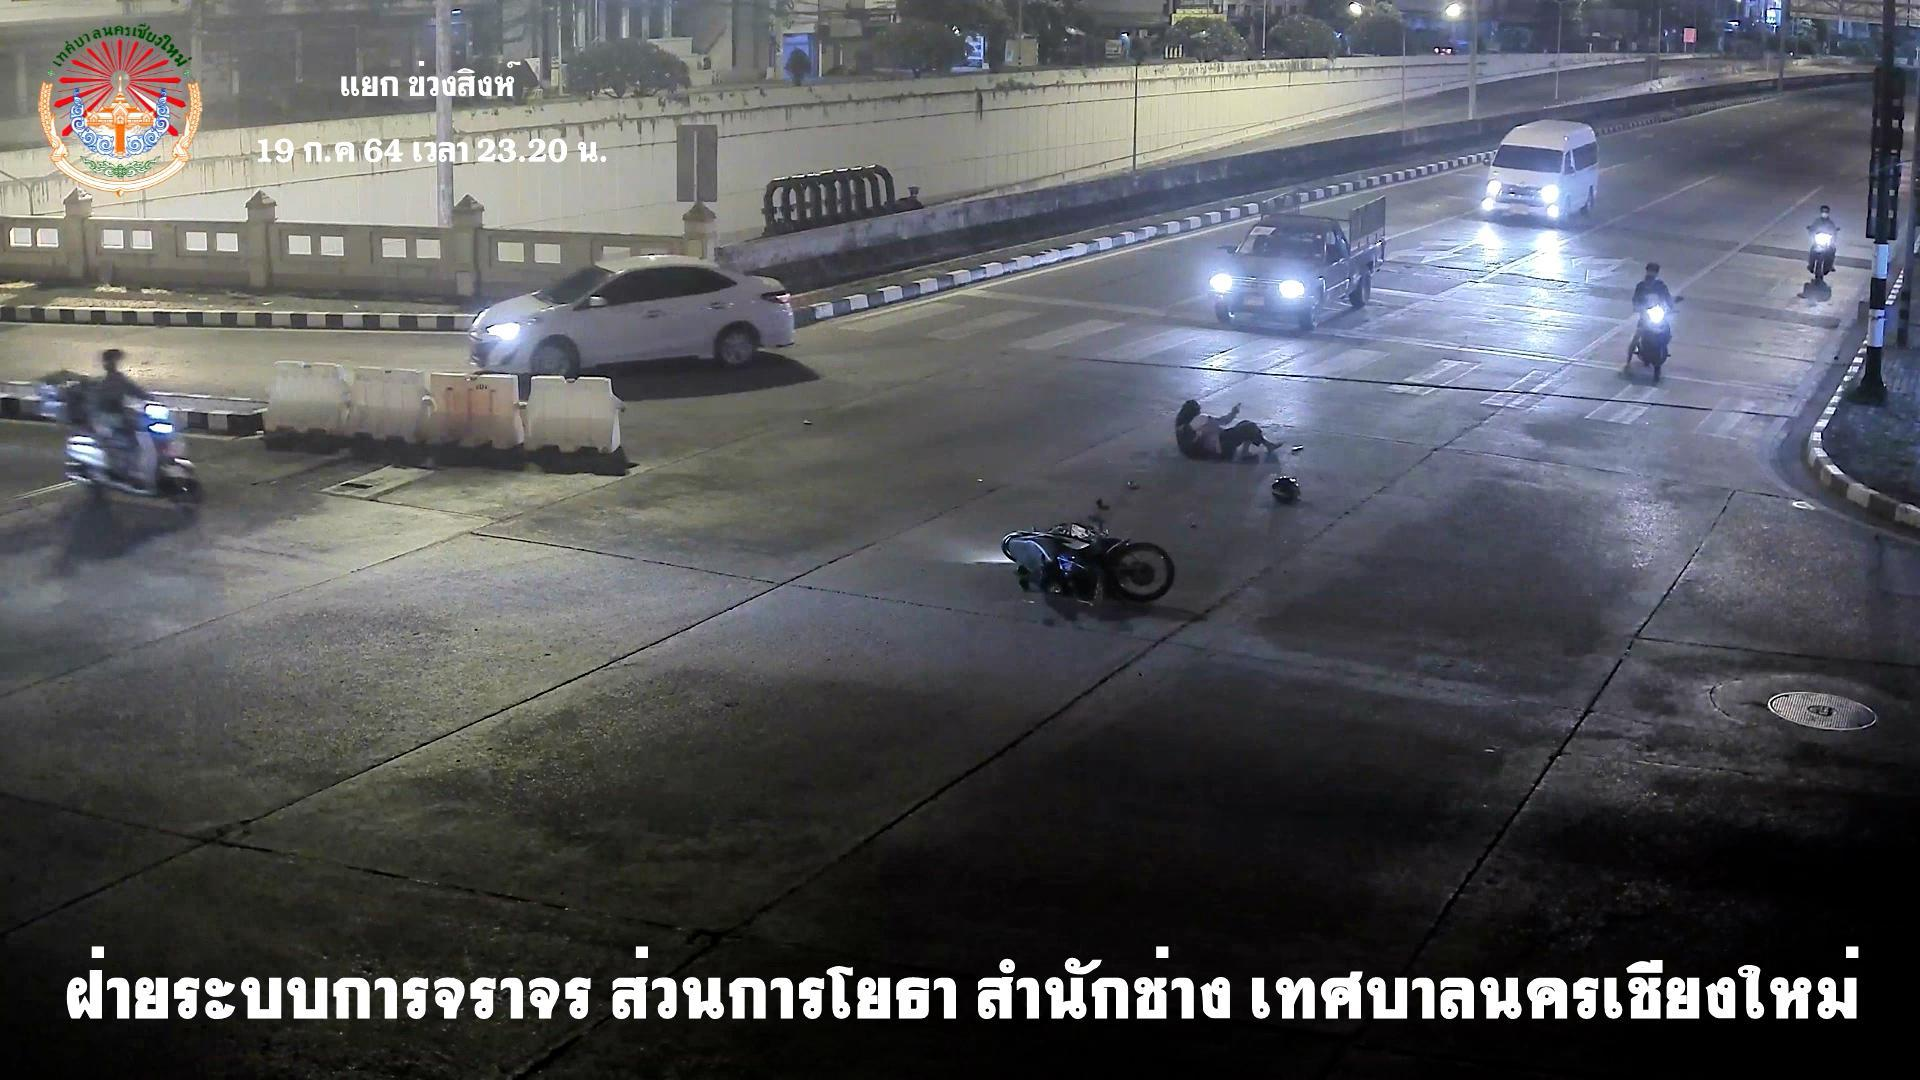accident: (1170, 389, 1287, 462)
